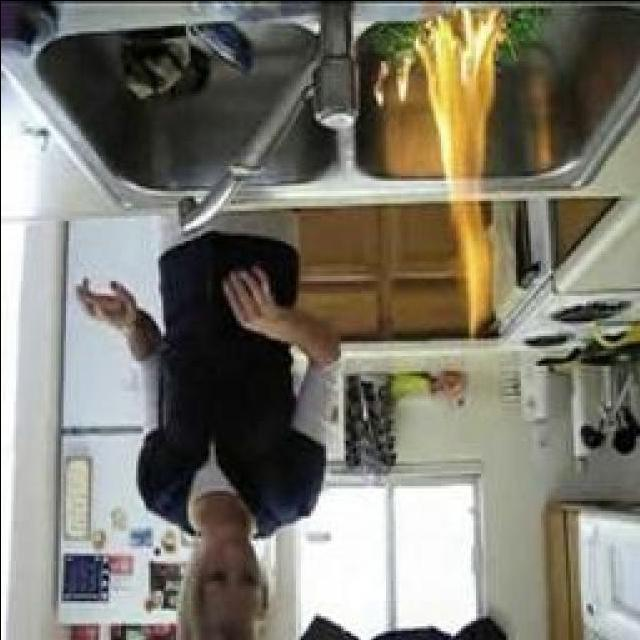Fire: (417, 7, 504, 325), (364, 51, 412, 98)
